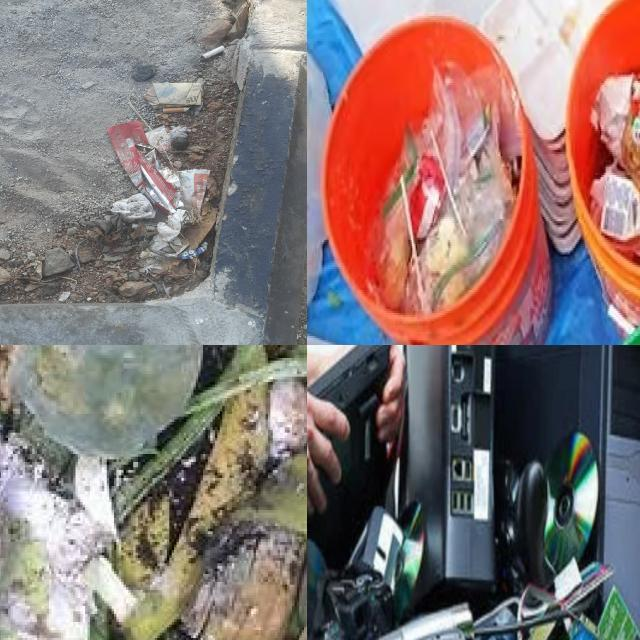Cig_bud: (202, 46, 225, 59)
E_waste: (495, 345, 640, 629), (399, 345, 495, 602), (307, 345, 392, 570), (307, 540, 392, 640), (545, 431, 599, 572), (516, 461, 548, 583), (571, 587, 640, 640), (394, 501, 424, 622), (379, 604, 472, 640)
Garbage: (307, 345, 640, 640), (374, 63, 521, 313)
Plastic_Bag: (0, 345, 307, 640), (376, 65, 521, 313), (10, 345, 202, 458)
Plastic_wraper: (107, 122, 181, 215), (175, 242, 208, 258)
